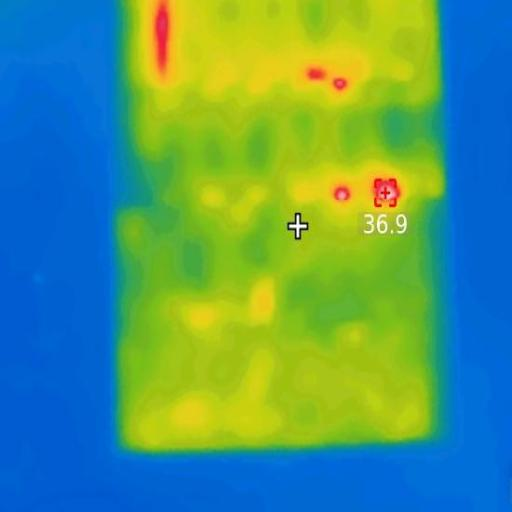hotspot: (150, 0, 171, 68), (370, 176, 401, 210), (304, 63, 328, 81), (331, 186, 355, 202), (332, 77, 348, 94)
